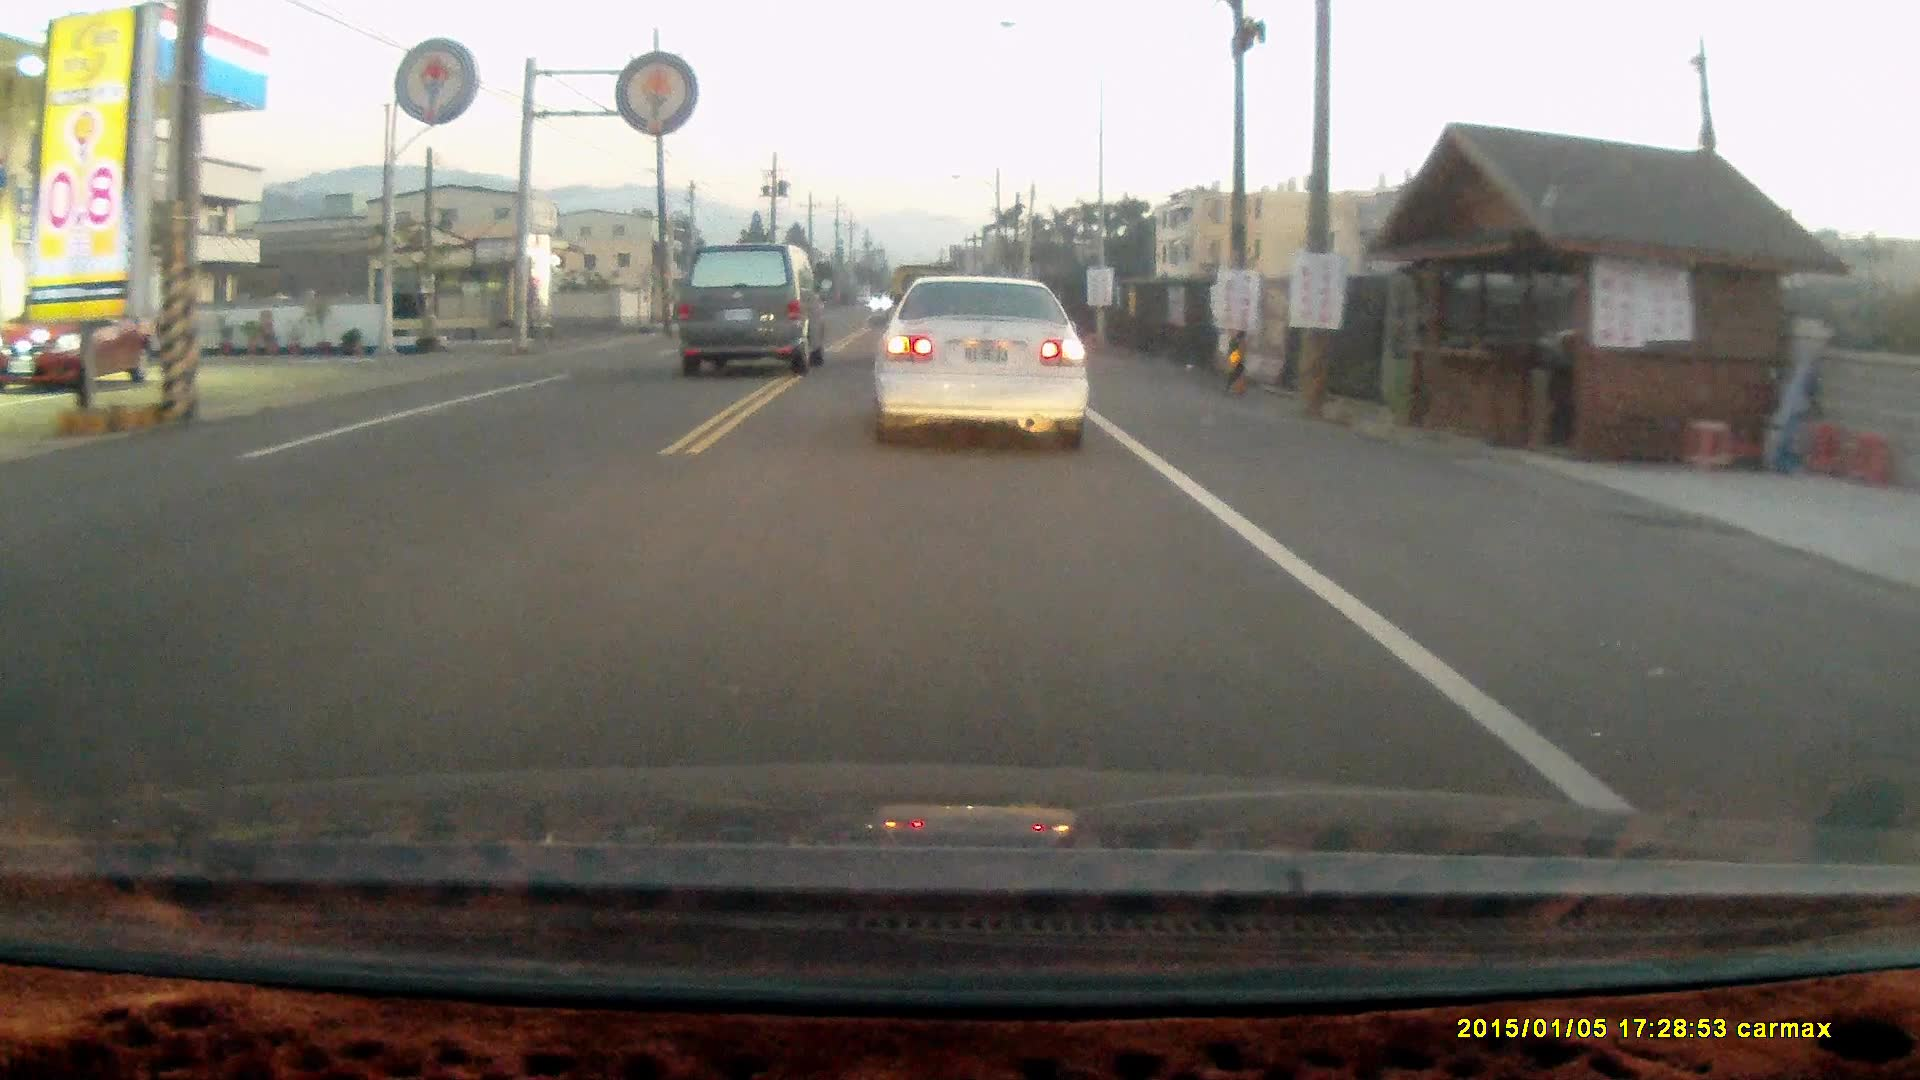vehicle: (866, 268, 1093, 455), (675, 243, 832, 377), (12, 293, 162, 396)
